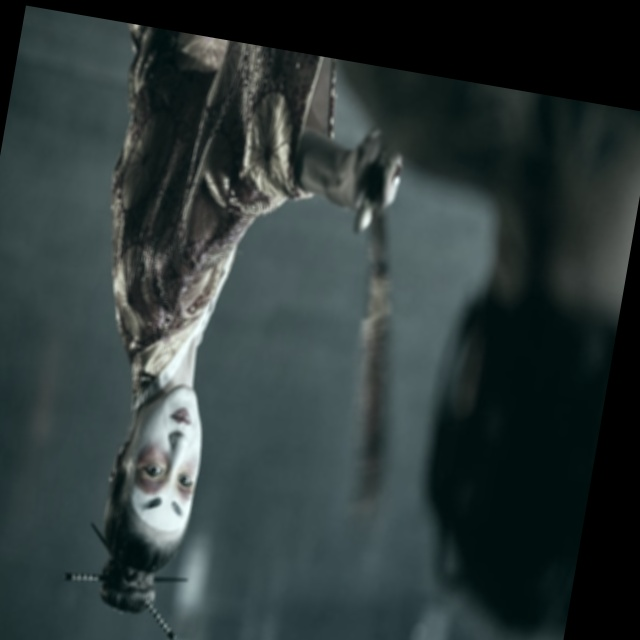Sharp-Object: (287, 131, 449, 525)
